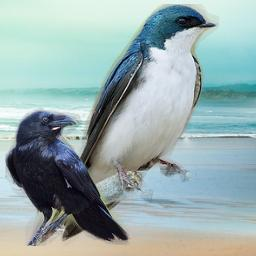Crow: (5, 109, 132, 246)
Swallow: (39, 4, 219, 246)
